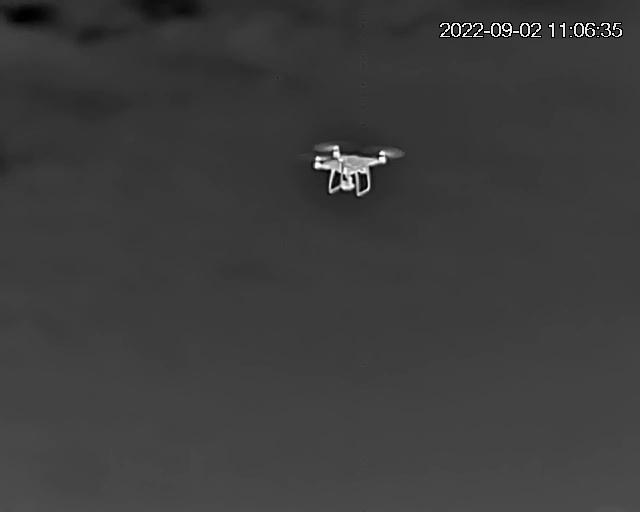DJI-Phantom: (312, 144, 402, 196)
